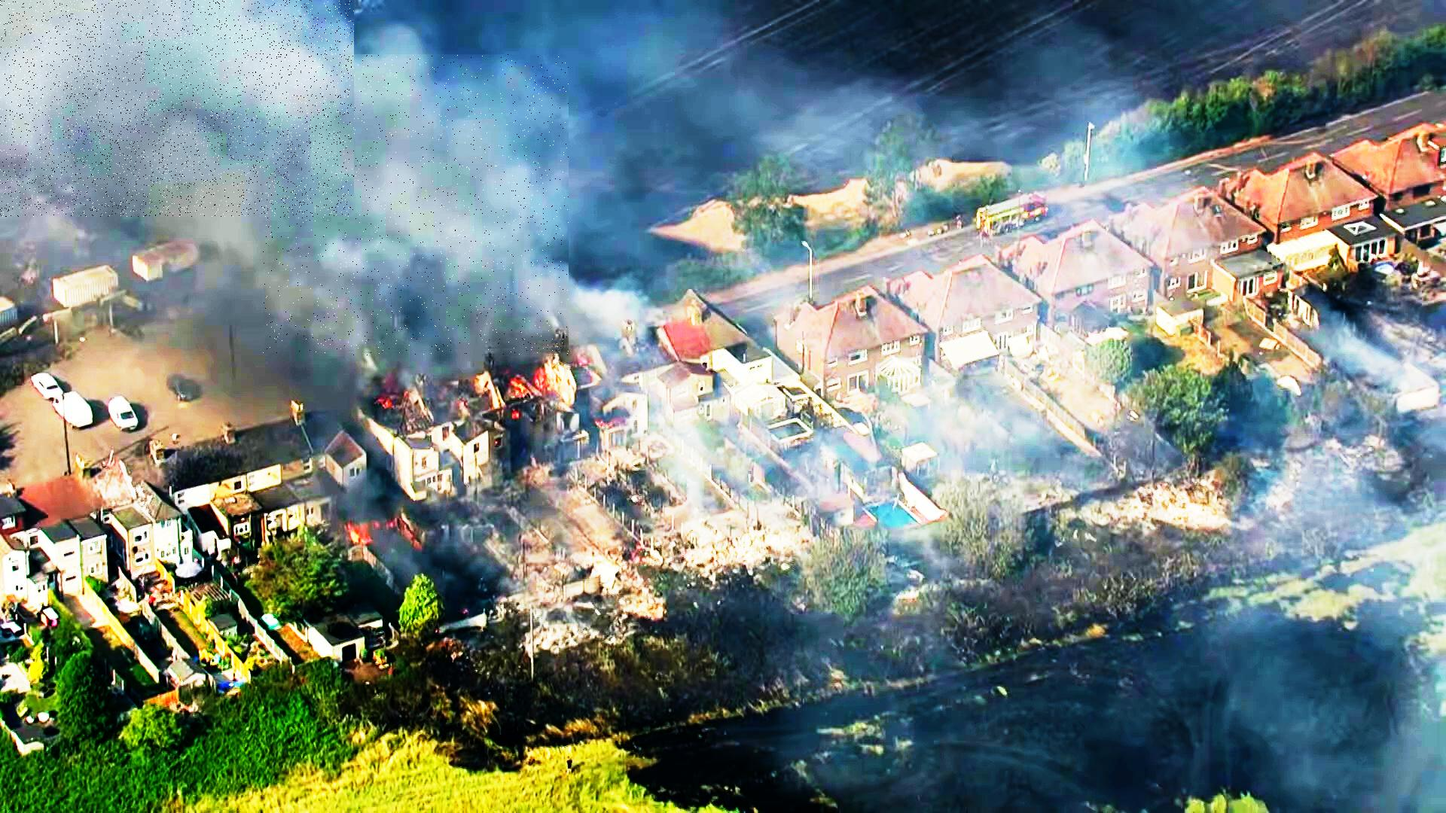smoke: (263, 55, 569, 356), (0, 0, 354, 217)
